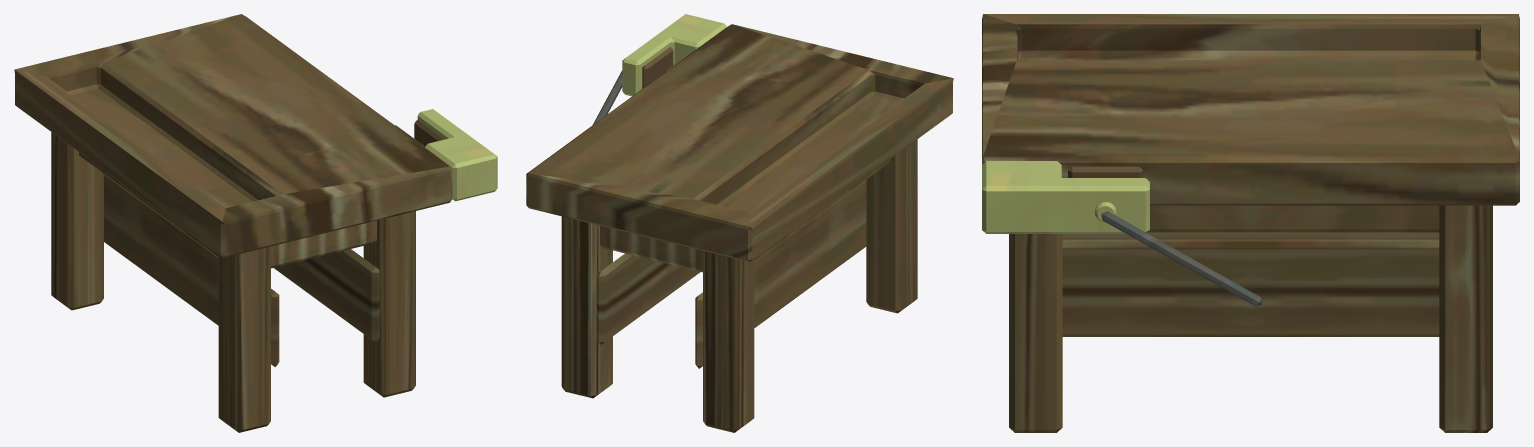
Rendered from carpenter_bench.glb.
3 views of the same model, side by side, from view 1: azimuth 30°, elevation 25°; view 2: azimuth 150°, elevation 25°; view 3: azimuth 270°, elevation 25° (orthographic). The views are drawn at different scales.
Parts seen in each view (by area): view 1: top, stool; view 2: top, stool; view 3: top, stool.
Part boxes in pixels (x1,y1,x2,y2): top: (14,14,497,257); stool: (51,132,415,432); top: (526,14,953,261); stool: (561,139,917,432); top: (982,14,1519,306); stool: (1009,205,1492,432).
Size of the model in its own units: 1.59 by 1.2 by 2.
1 material, 1 textured.
